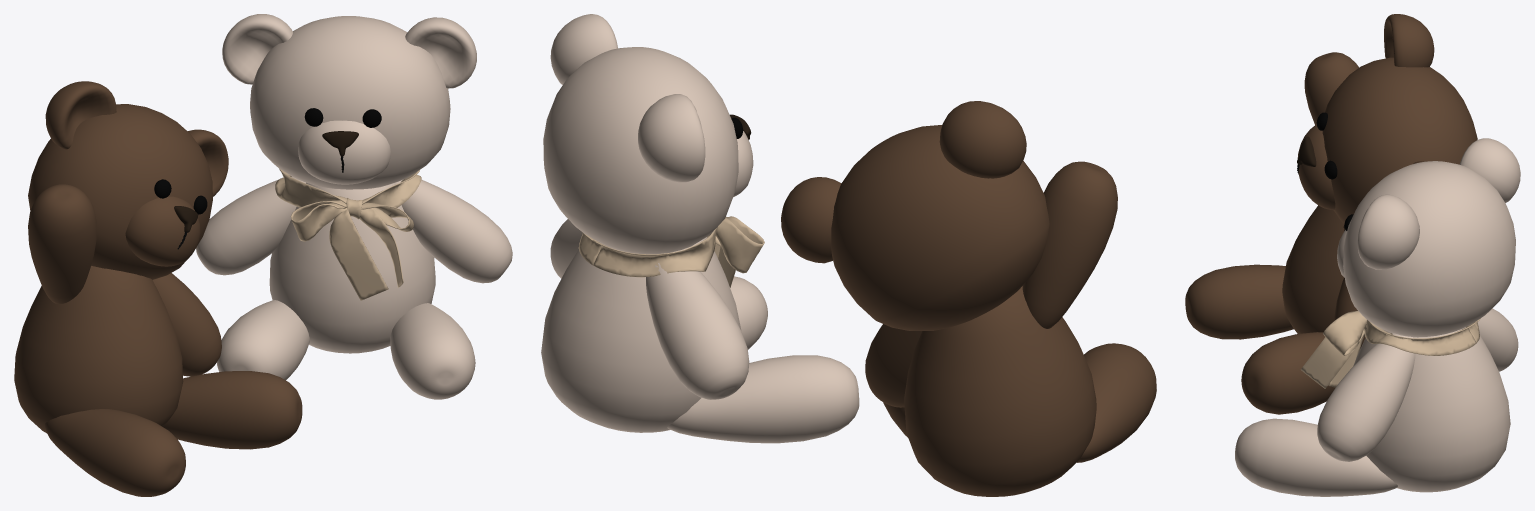
The model's file is knitbears.fbx.
The picture shows the model from 3 angles, left to right: view 1: azimuth 30°, elevation 25°; view 2: azimuth 150°, elevation 25°; view 3: azimuth 270°, elevation 25°; orthographic projection. The views are drawn at different scales.
Parts seen in each view (by area): view 1: Object_7, Object_26, bow_bear, Object_29, Object_28; view 2: Object_7, Object_26, bow_bear; view 3: Object_26, Object_7, bow_bear, Object_9, Object_10.
Boxes of the visible parts, bbox=[...] form: Object_7: bbox=[14, 81, 302, 496]; Object_26: bbox=[196, 14, 512, 399]; bow_bear: bbox=[275, 169, 421, 300]; Object_29: bbox=[304, 108, 381, 127]; Object_28: bbox=[322, 131, 358, 156]; Object_7: bbox=[781, 101, 1156, 496]; Object_26: bbox=[541, 14, 859, 443]; bow_bear: bbox=[578, 216, 764, 287]; Object_26: bbox=[1235, 138, 1520, 496]; Object_7: bbox=[1185, 14, 1477, 414]; bow_bear: bbox=[1300, 310, 1480, 388]; Object_9: bbox=[1297, 136, 1316, 166]; Object_10: bbox=[1316, 112, 1337, 179].
Bounding box in the file's own units: 551 × 382 × 340.
